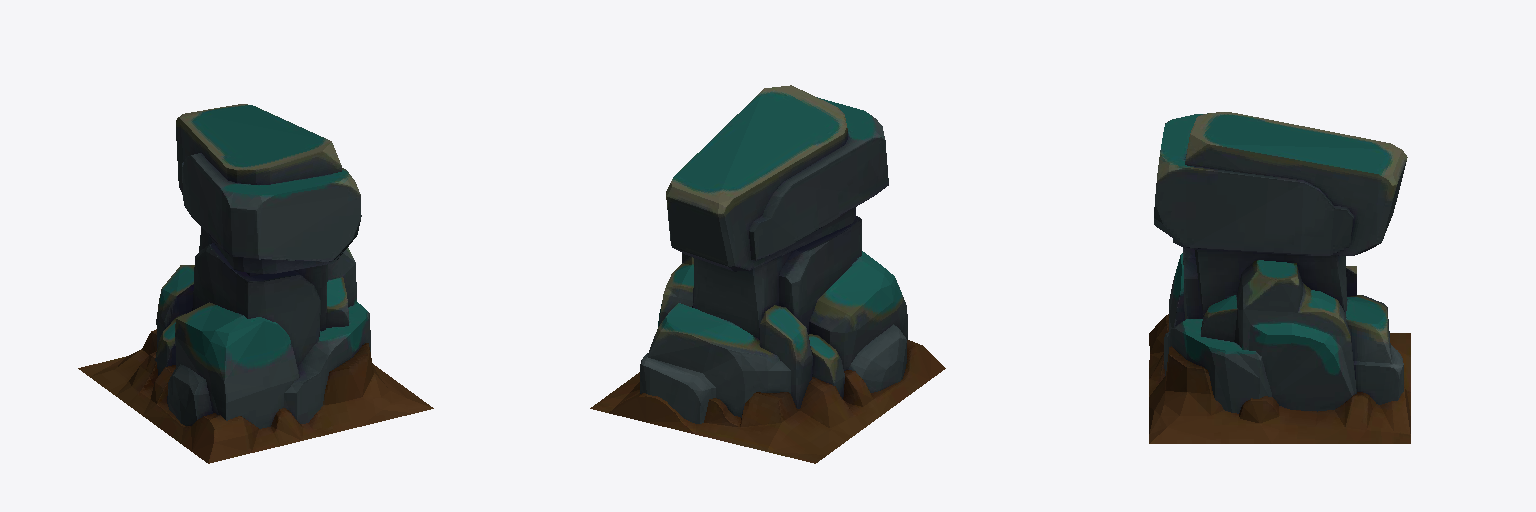
3 renders of one model, left to right at view 1: azimuth 30°, elevation 25°; view 2: azimuth 150°, elevation 25°; view 3: azimuth 270°, elevation 25°, orthographic.
Parts seen in each view (by area): view 1: OBJ_Mountain_01; view 2: OBJ_Mountain_01; view 3: OBJ_Mountain_01.
Boxes of the visible parts, <box> form: OBJ_Mountain_01: <box>78,104,433,463</box>; OBJ_Mountain_01: <box>590,85,945,463</box>; OBJ_Mountain_01: <box>1149,112,1410,443</box>.
Bounding box in the file's own units: 3.6 × 4.03 × 3.6.
Materials: 1 (1 with a texture image).